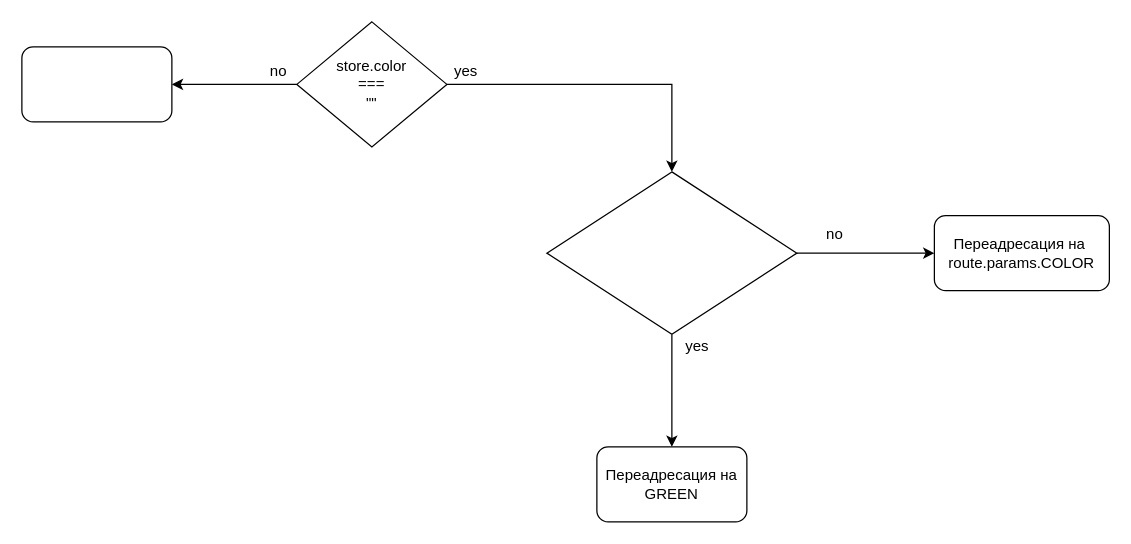
Image size: 1131x544. Some labels were removed from this diagram. Each missing label, with the box of its shape:
route.params.color === "": (546, 171, 797, 334)
Переадресация на store.color: (21, 46, 172, 122)
